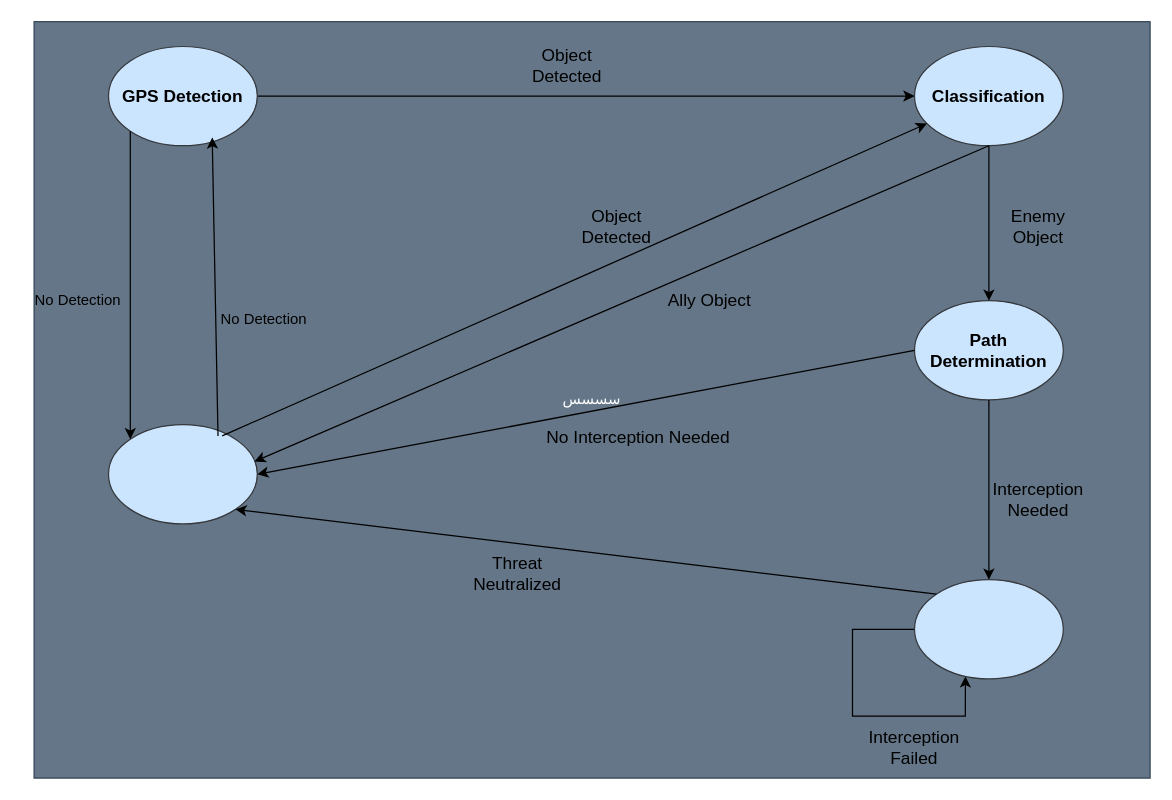
The diagram is 1172 pixels wide and 800 high, and some of its shapes have lost their labels. The centre of each missing label's shape, as x and y in pixels:
Heat Detection: the point at 182,473
Interception & Alert: the point at 988,628
